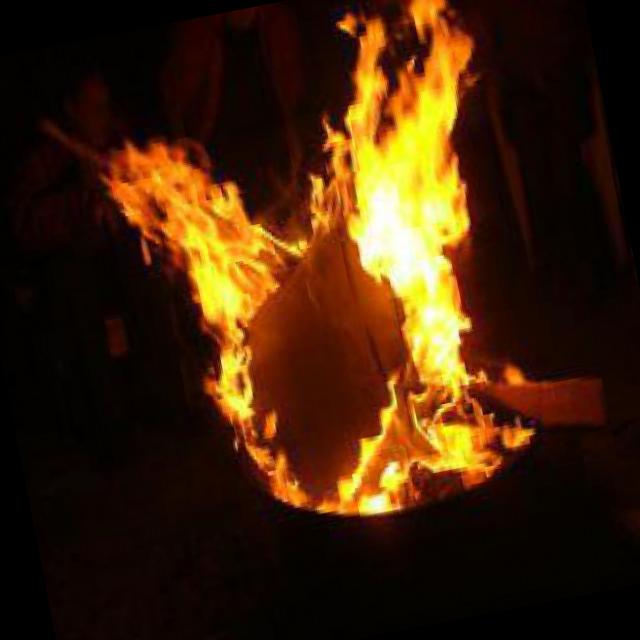fire: (55, 0, 568, 564)
